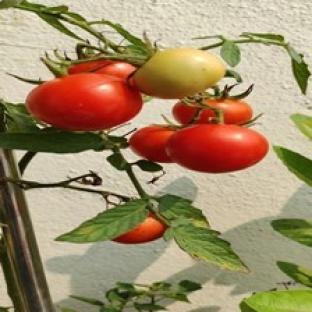Tomato: (27, 73, 143, 130), (166, 124, 268, 172), (133, 48, 225, 98), (172, 99, 253, 123), (130, 126, 175, 162), (113, 214, 167, 243), (69, 60, 136, 79)
